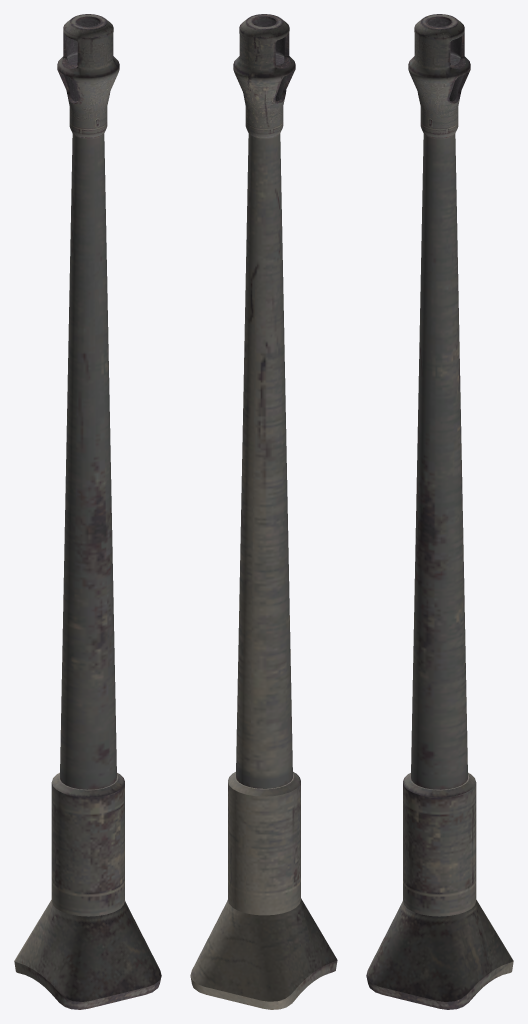
Rendered from Gun_02.glb.
3 renders of one model, left to right at view 1: azimuth 30°, elevation 25°; view 2: azimuth 150°, elevation 25°; view 3: azimuth 330°, elevation 25°, orthographic.
Parts seen in each view (by area): view 1: set_0_group_0; view 2: set_0_group_0; view 3: set_0_group_0.
Part boxes in pixels (x1,y1,x2,y2): set_0_group_0: (14,14,161,1009); set_0_group_0: (190,14,337,1009); set_0_group_0: (366,14,513,1009).
Size of the model in its own units: 0.5219 by 4.82 by 0.5663.
Materials: 1 (1 with a texture image).
